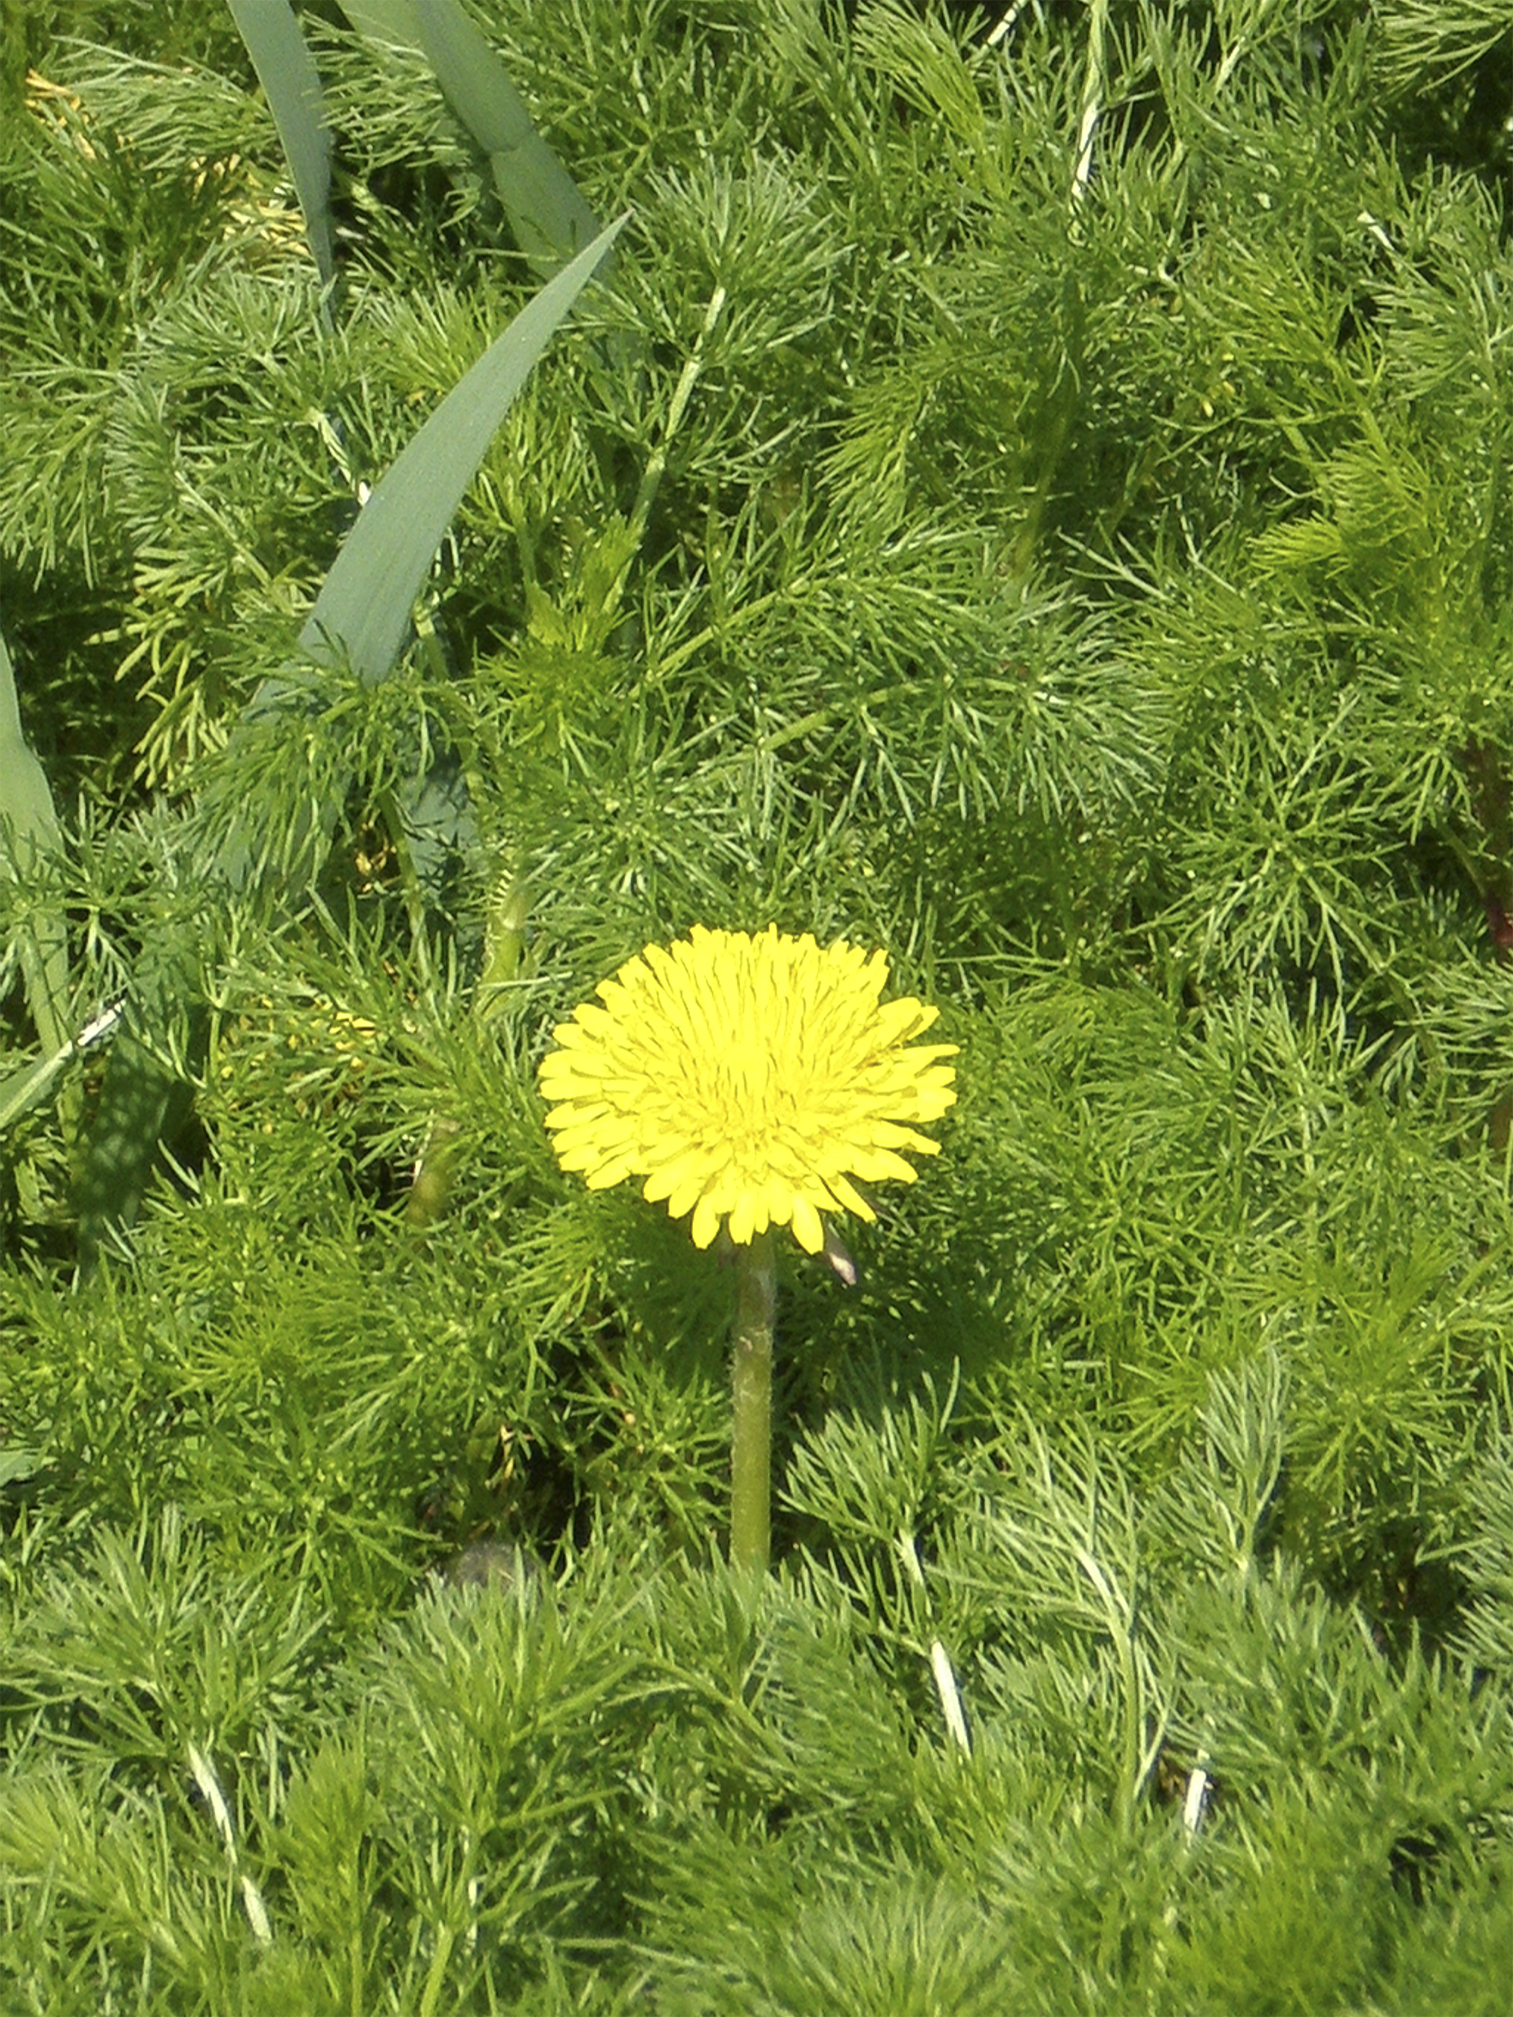dandelion: (523, 931, 996, 1225)
